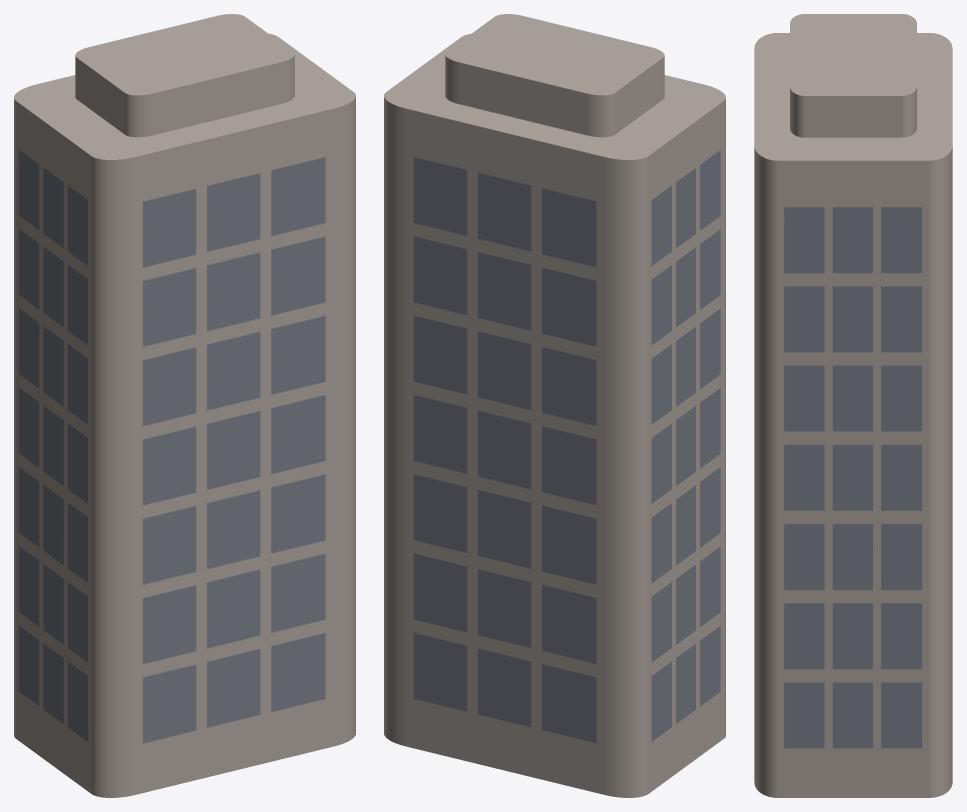
Rendered from Building4.fbx.
3 renders of one model, left to right at view 1: azimuth 30°, elevation 25°; view 2: azimuth 150°, elevation 25°; view 3: azimuth 270°, elevation 25°, orthographic.
Visible parts, largest first — view 1: b4.001, b4.002; view 2: b4.001, b4.002; view 3: b4.001, b4.002.
Boxes of the visible parts, x1,y1,x2,y2 form: b4.001: [14, 34, 355, 797]; b4.002: [75, 14, 294, 137]; b4.001: [384, 34, 725, 797]; b4.002: [445, 14, 664, 137]; b4.001: [754, 33, 952, 797]; b4.002: [790, 14, 916, 137].
Size of the model in its own units: 10 by 24.76 by 6.55.
